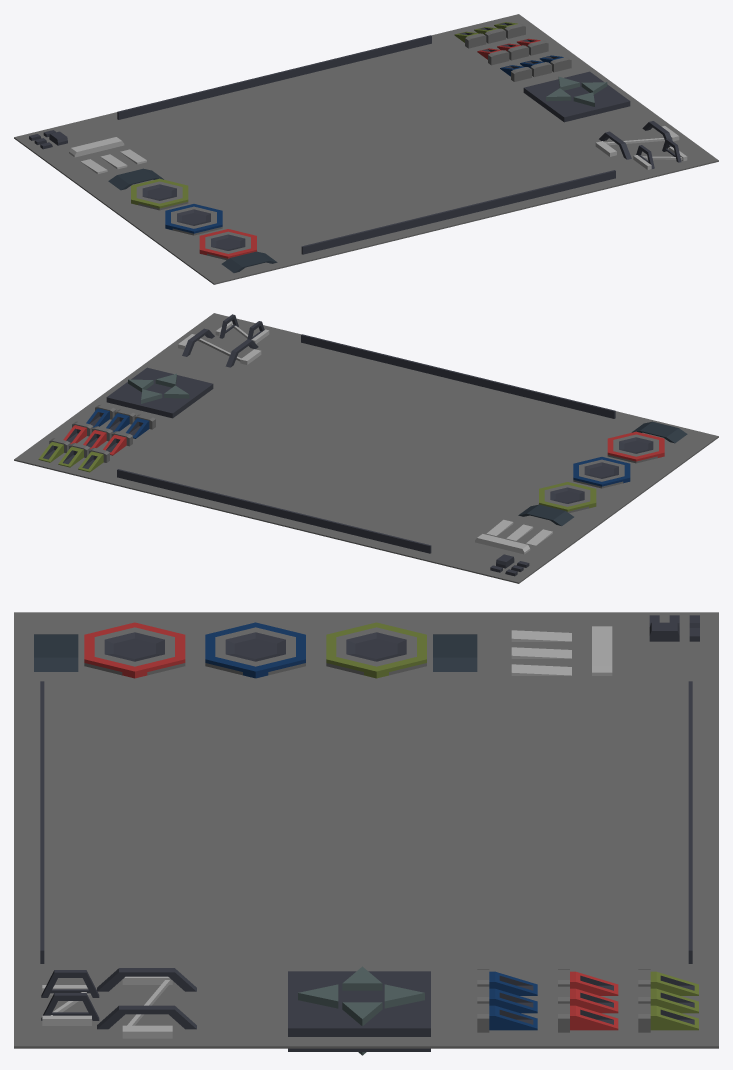
Rendered from navigation_panel_arrows.glb.
3 renders of one model, top to bottom at view 1: azimuth 30°, elevation 25°; view 2: azimuth 150°, elevation 25°; view 3: azimuth 270°, elevation 25°, orthographic. The views are drawn at different scales.
Parts seen in each view (by area): view 1: block (×4), engine_turbineLarge% (×3), gear_barsEnforced, detail_panelsC, gear_bars, gear_half, detail_panelsB; view 2: block (×4), engine_turbineLarge% (×3), engine_slant% (×5), gear_barsEnforced, detail_panelsC, gear_bars, detail_panelsB, gear_half; view 3: block (×4), engine_turbineLarge% (×3), engine_slant% (×9), gear_barsEnforced (×2), detail_panelsC, gear_half (×2), gear_bars, detail_panelsB.
Part boxes in pixels (bbox=[...]): block (×4): bbox=[14, 14, 718, 284]; engine_turbineLarge% (×3): bbox=[131, 178, 256, 260]; gear_barsEnforced: bbox=[108, 168, 277, 272]; detail_panelsC: bbox=[69, 137, 146, 174]; gear_bars: bbox=[599, 121, 672, 159]; gear_half: bbox=[595, 126, 679, 156]; detail_panelsB: bbox=[29, 130, 67, 149]; block (×4): bbox=[14, 313, 718, 583]; engine_turbineLarge% (×3): bbox=[539, 431, 664, 513]; engine_slant% (×5): bbox=[38, 414, 155, 472]; gear_barsEnforced: bbox=[518, 421, 687, 525]; detail_panelsC: bbox=[475, 519, 552, 554]; gear_bars: bbox=[182, 328, 258, 367]; detail_panelsB: bbox=[490, 554, 529, 576]; gear_half: bbox=[178, 334, 261, 364]; block (×4): bbox=[14, 612, 718, 1051]; engine_turbineLarge% (×3): bbox=[84, 622, 426, 678]; engine_slant% (×9): bbox=[477, 969, 698, 1032]; gear_barsEnforced (×2): bbox=[34, 634, 477, 1020]; detail_panelsC: bbox=[511, 626, 612, 675]; gear_half (×2): bbox=[42, 976, 172, 1038]; gear_bars: bbox=[97, 968, 196, 1029]; detail_panelsB: bbox=[649, 615, 699, 641].
Size of the model in its own units: 51 by 2.5 by 35.
